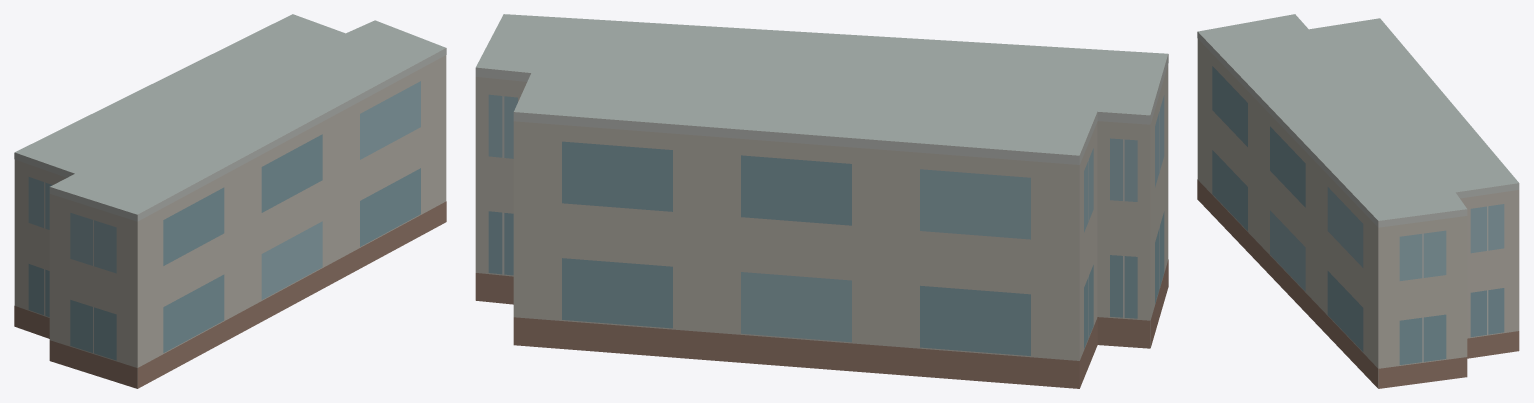
The model's file is survey-upis-32884074.glb.
3 renders of one model, left to right at view 1: azimuth 30°, elevation 25°; view 2: azimuth 150°, elevation 25°; view 3: azimuth 270°, elevation 25°, orthographic. The views are drawn at different scales.
Visible parts, largest first — view 1: survey-upis-32884074.tmp; view 2: survey-upis-32884074.tmp; view 3: survey-upis-32884074.tmp.
Boxes of the visible parts, <box> form: survey-upis-32884074.tmp: <box>14,14,446,388</box>; survey-upis-32884074.tmp: <box>475,14,1168,388</box>; survey-upis-32884074.tmp: <box>1197,14,1519,388</box>.
Bounding box in the file's own units: 16.14 × 6.1 × 10.61.
